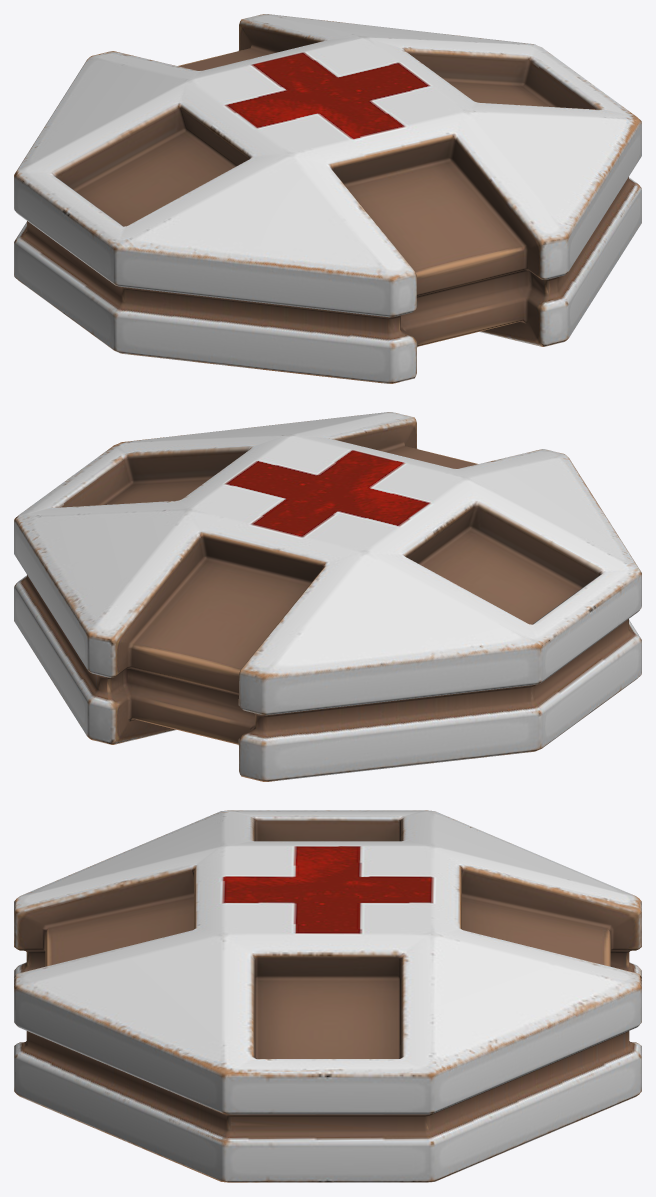
The model's file is healthPack.glb.
3 renders of one model, top to bottom at view 1: azimuth 30°, elevation 25°; view 2: azimuth 150°, elevation 25°; view 3: azimuth 270°, elevation 25°, orthographic. The views are drawn at different scales.
Visible parts, largest first — view 1: healthpack; view 2: healthpack; view 3: healthpack.
Part boxes in pixels (x1=…): healthpack: x1=14, y1=14, x2=641, y2=383; healthpack: x1=14, y1=412, x2=641, y2=781; healthpack: x1=14, y1=810, x2=641, y2=1182.
Bounding box in the file's own units: 0.9168 × 0.3437 × 0.9168.
Materials: 1 (1 with a texture image).
